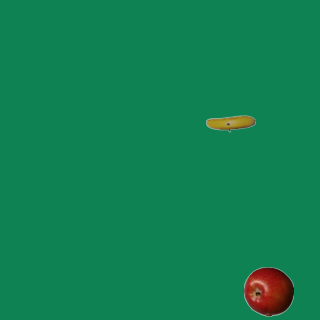Apple Braeburn: (243, 266, 293, 316)
Banana: (205, 98, 255, 148)
